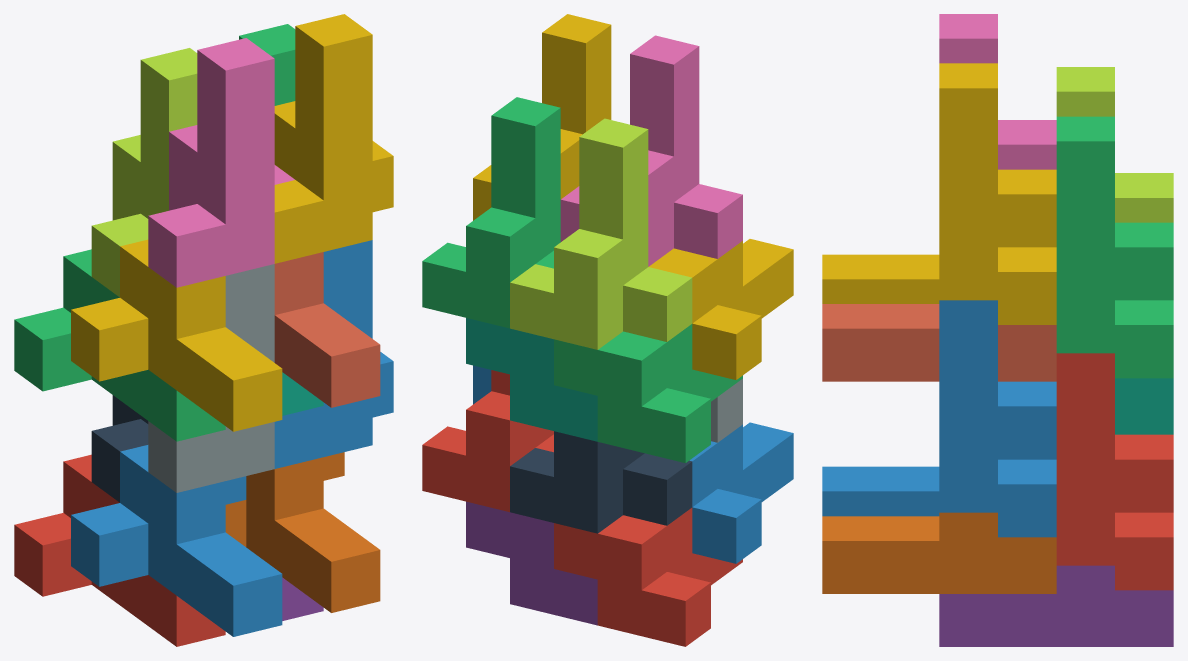
Rendered from tiling.obj.
3 views of the same model, side by side, from view 1: azimuth 30°, elevation 25°; view 2: azimuth 150°, elevation 25°; view 3: azimuth 270°, elevation 25° (orthographic). The views are drawn at different scales.
Parts seen in each view (by area): view 1: copy_2_domain_4, copy_2_domain_8, copy_1_domain_2, copy_1_domain_4, copy_1_domain_6, copy_2_domain_3, copy_1_domain_8, copy_1_domain_1, copy_1_domain_3, copy_2_domain_2, copy_2_domain_6, copy_2_domain_1 (+3 smaller); view 2: copy_2_domain_3, copy_2_domain_7, copy_2_domain_4, copy_1_domain_1, copy_1_domain_3, copy_2_domain_1, copy_1_domain_4, copy_1_domain_2, copy_2_domain_5, copy_2_domain_8, copy_1_domain_5, copy_1_domain_7 (+2 smaller); view 3: copy_2_domain_7, copy_2_domain_8, copy_2_domain_5, copy_2_domain_6, copy_1_domain_6, copy_1_domain_5, copy_1_domain_8, copy_1_domain_2, copy_2_domain_3, copy_2_domain_4, copy_1_domain_4, copy_1_domain_7.
Part boxes in pixels (box(x1,y1,x2,y2)): copy_2_domain_4: box(148, 38, 294, 287); copy_2_domain_8: box(274, 14, 393, 263); copy_1_domain_2: box(71, 445, 282, 636); copy_1_domain_4: box(71, 239, 282, 431); copy_1_domain_6: box(225, 452, 380, 612); copy_2_domain_3: box(91, 48, 197, 297); copy_1_domain_8: box(274, 252, 380, 407); copy_1_domain_1: box(14, 454, 225, 646); copy_1_domain_3: box(14, 249, 225, 441); copy_2_domain_2: box(148, 264, 274, 492); copy_2_domain_6: box(274, 240, 393, 468); copy_2_domain_1: box(91, 395, 148, 502); copy_2_domain_3: box(510, 118, 692, 349); copy_2_domain_7: box(422, 97, 560, 328); copy_2_domain_4: box(560, 35, 742, 266); copy_1_domain_1: box(554, 507, 742, 646); copy_1_domain_3: box(554, 324, 742, 462); copy_2_domain_1: box(510, 431, 692, 533); copy_1_domain_4: box(649, 239, 793, 379); copy_1_domain_2: box(689, 422, 793, 563); copy_2_domain_5: box(422, 370, 553, 512); copy_2_domain_8: box(473, 14, 611, 220); copy_1_domain_5: box(466, 501, 597, 625); copy_1_domain_7: box(466, 318, 597, 441); copy_2_domain_7: box(1056, 116, 1173, 378); copy_2_domain_8: box(939, 63, 1056, 324); copy_2_domain_5: box(1056, 353, 1173, 590); copy_2_domain_6: box(939, 300, 1056, 537); copy_1_domain_6: box(822, 512, 1056, 593); copy_1_domain_5: box(939, 565, 1173, 646); copy_1_domain_8: box(822, 304, 1056, 381); copy_1_domain_2: box(822, 466, 939, 516); copy_2_domain_3: box(1056, 67, 1173, 222); copy_2_domain_4: box(939, 14, 1056, 169); copy_1_domain_4: box(822, 254, 939, 303); copy_1_domain_7: box(1115, 378, 1173, 434).
Size of the model in its own units: 6 by 11 by 6.
